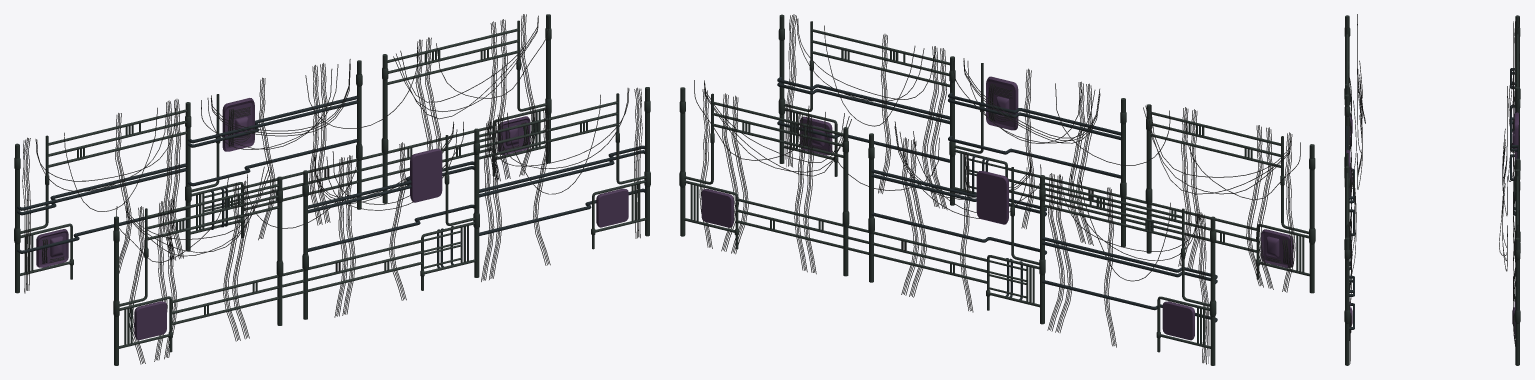
Rendered from Wall_decoration.fbx.
3 renders of one model, left to right at view 1: azimuth 30°, elevation 25°; view 2: azimuth 150°, elevation 25°; view 3: azimuth 270°, elevation 25°, orthographic. The views are drawn at different scales.
Parts seen in each view (by area): view 1: NurbsPath.040, NurbsPath.001; view 2: NurbsPath.001, NurbsPath.040; view 3: NurbsPath.040, NurbsPath.001.
Boxes of the visible parts, x1,y1,x2,y2 form: NurbsPath.040: [113, 87, 650, 365]; NurbsPath.001: [14, 14, 551, 293]; NurbsPath.001: [679, 80, 1217, 365]; NurbsPath.040: [777, 14, 1315, 293]; NurbsPath.040: [1344, 14, 1365, 365]; NurbsPath.001: [1499, 15, 1520, 365].
Size of the model in its own units: 3596 by 1060 by 1190.
